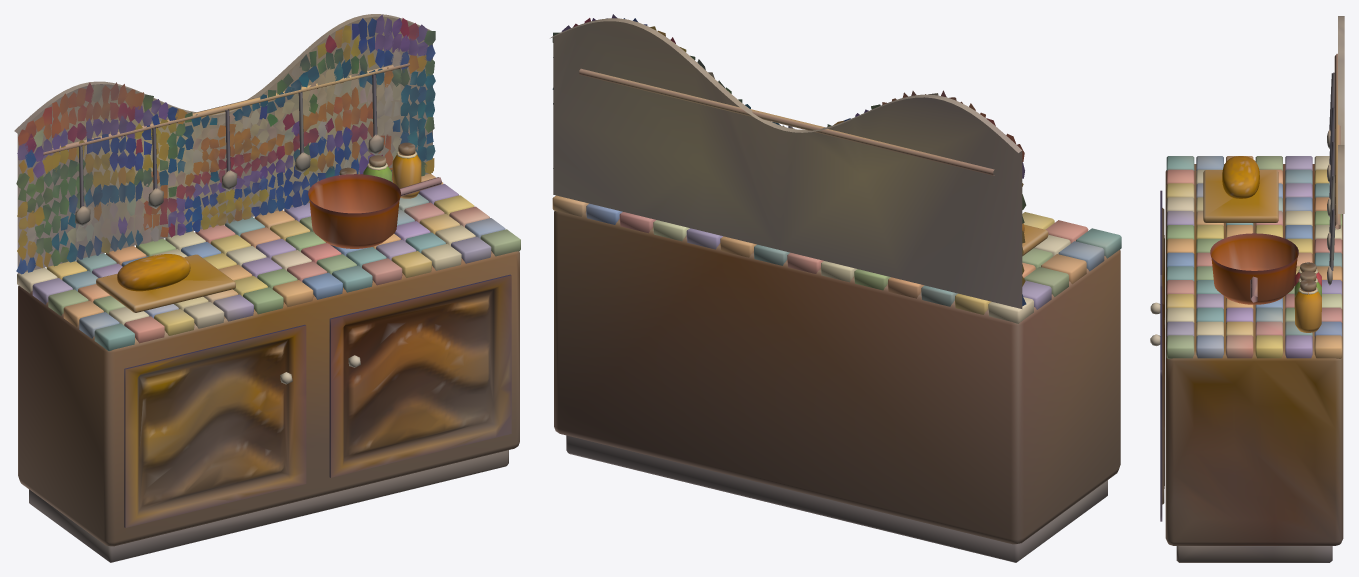
The model's file is mutfak_tezgahi.glb.
3 views of the same model, side by side, from view 1: azimuth 30°, elevation 25°; view 2: azimuth 150°, elevation 25°; view 3: azimuth 270°, elevation 25° (orthographic). The views are drawn at different scales.
Parts seen in each view (by area): view 1: mutfak_tezgahi_LOD0; view 2: mutfak_tezgahi_LOD0; view 3: mutfak_tezgahi_LOD0.
Boxes of the visible parts, box(x1,y1,x2,y2) form: mutfak_tezgahi_LOD0: box(14, 14, 520, 562); mutfak_tezgahi_LOD0: box(550, 14, 1121, 562); mutfak_tezgahi_LOD0: box(1150, 16, 1344, 562).
Size of what is drawn, in the model's own units: 1.72 by 1.59 by 0.7223.
